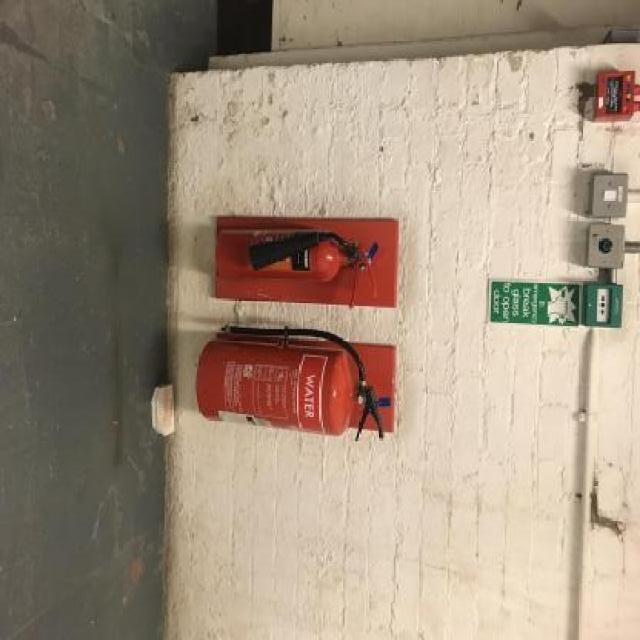fire extinguisher: (196, 326, 384, 442), (213, 228, 378, 309)
